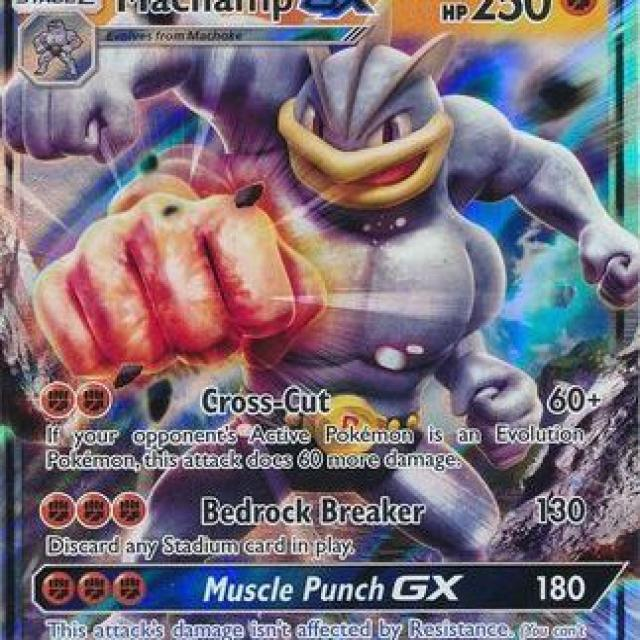Machamp: (34, 57, 617, 556)
